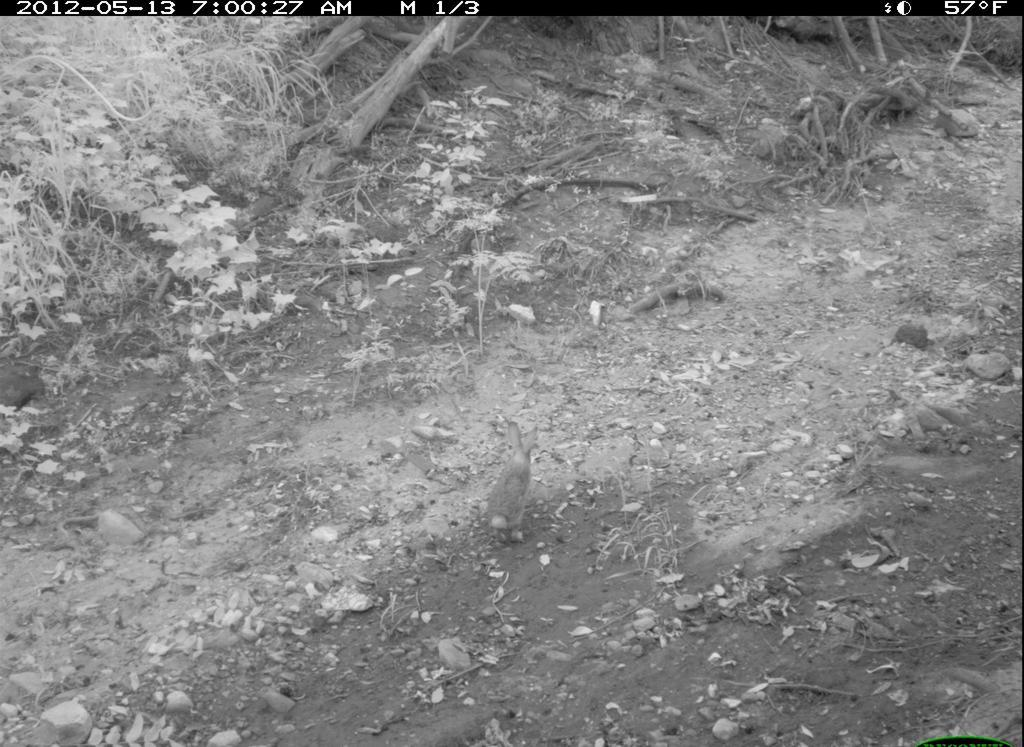rabbit: (482, 413, 556, 561)
